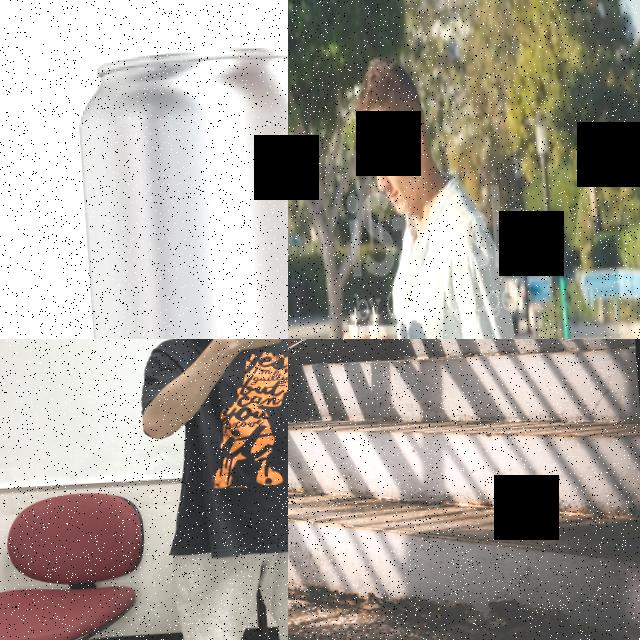can: (68, 39, 288, 339)
cup: (344, 298, 378, 339), (366, 307, 404, 339)
